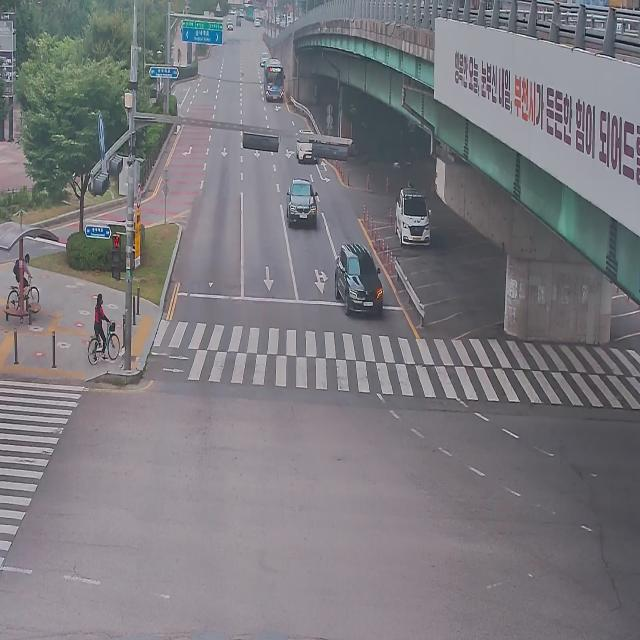Bus: (261, 54, 289, 105)
Car: (334, 241, 383, 317), (395, 187, 431, 246), (286, 177, 318, 229), (297, 129, 316, 165)
